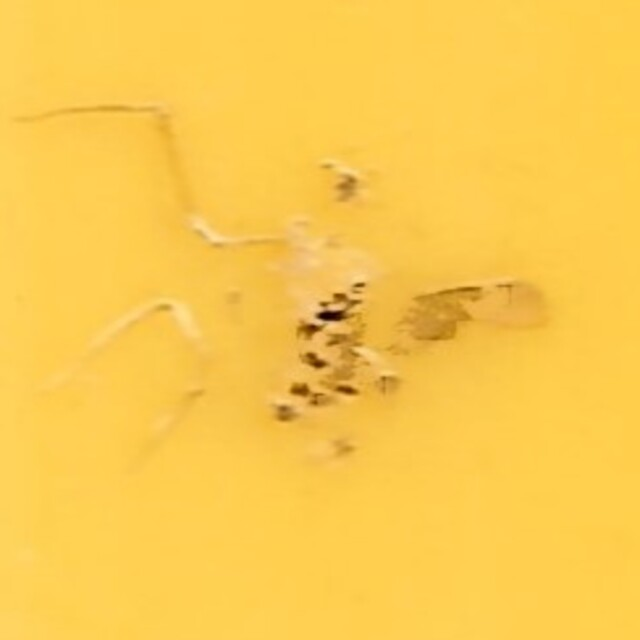Nematocera: (262, 213, 378, 427)
